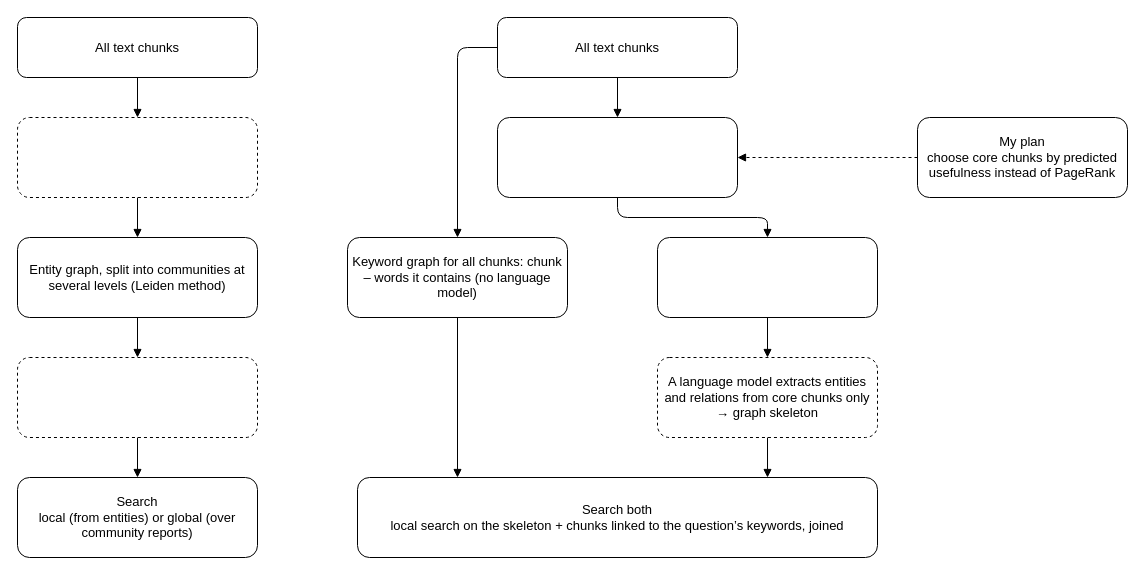
Some shapes in this 1145 by 575 pixel diagram are drawn without their labels. The box of each missing label's shape, as (x1, y1, x2, y2) in pixels:
A language model reads every chunk and extracts entities and relations: (16, 116, 258, 198)
A language model writes a report for every community: (16, 356, 258, 438)
Core chunks the top share β, fixed in advance: (656, 236, 878, 318)
Similarity graph of chunks (shared keywords + meaning); rank chunks by PageRank: (496, 116, 738, 198)
